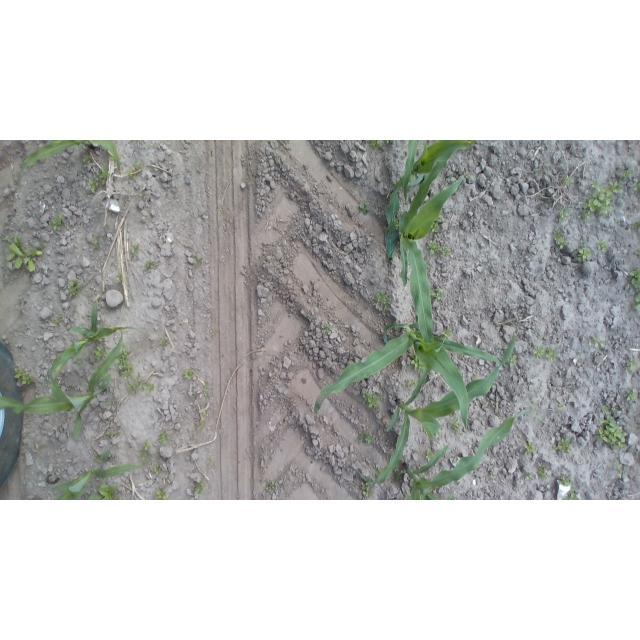Maize: (359, 332, 515, 485), (314, 324, 502, 431), (1, 331, 124, 443), (399, 159, 470, 353), (395, 410, 545, 500), (385, 141, 479, 259), (40, 299, 141, 389), (18, 141, 123, 190), (49, 448, 141, 500), (405, 141, 420, 204)
Weeds: (580, 168, 632, 220), (5, 232, 40, 272), (591, 414, 627, 450), (119, 346, 142, 382), (87, 483, 119, 500), (550, 436, 574, 457), (126, 378, 155, 394), (14, 365, 35, 387), (370, 290, 390, 313), (588, 333, 608, 351), (553, 229, 569, 250), (67, 280, 83, 301), (354, 430, 374, 446), (362, 390, 379, 408), (627, 268, 640, 291), (426, 240, 443, 257), (523, 440, 538, 457), (51, 213, 65, 231), (98, 167, 111, 186), (538, 462, 551, 481), (193, 480, 205, 500), (578, 248, 593, 264), (356, 201, 372, 216), (410, 356, 424, 373), (93, 345, 108, 360), (158, 430, 174, 444), (87, 177, 101, 193), (431, 287, 446, 301), (141, 260, 155, 275), (544, 346, 558, 361), (362, 482, 375, 498), (563, 488, 580, 500), (449, 416, 463, 430), (625, 357, 638, 372), (533, 344, 544, 361), (625, 389, 639, 402), (596, 240, 609, 253), (559, 475, 573, 487), (439, 327, 453, 339), (577, 211, 592, 222), (632, 292, 640, 312), (589, 180, 602, 192), (558, 208, 570, 221), (141, 439, 152, 453), (106, 429, 122, 438), (155, 489, 168, 500), (370, 141, 383, 152), (508, 354, 518, 368), (131, 243, 142, 255), (191, 255, 203, 266), (35, 238, 46, 250), (132, 160, 145, 170), (425, 448, 435, 461), (405, 378, 418, 388), (266, 479, 276, 491), (157, 336, 170, 345), (126, 169, 137, 179), (323, 324, 334, 334), (183, 369, 193, 380), (154, 463, 163, 475), (442, 246, 451, 258), (187, 392, 198, 401), (83, 154, 92, 165), (93, 235, 102, 246), (431, 223, 440, 234), (109, 396, 118, 406), (140, 453, 148, 464), (525, 471, 534, 480), (53, 316, 62, 325), (76, 357, 85, 366), (372, 469, 380, 479), (115, 273, 123, 283), (557, 401, 565, 411), (198, 420, 206, 429), (201, 406, 207, 418), (565, 177, 574, 185), (602, 405, 611, 413), (633, 181, 640, 191), (489, 471, 497, 479), (70, 307, 79, 314), (123, 195, 128, 207), (616, 464, 623, 472), (581, 237, 588, 245), (204, 390, 211, 398), (633, 222, 640, 230), (94, 453, 101, 461), (144, 143, 153, 149), (209, 329, 215, 338), (530, 401, 537, 408), (534, 169, 542, 175), (634, 248, 640, 256), (203, 381, 209, 388), (491, 400, 498, 406), (481, 399, 488, 405), (471, 376, 479, 381), (220, 207, 225, 215), (387, 140, 396, 144), (577, 351, 583, 357), (139, 192, 146, 197), (207, 460, 213, 465), (105, 224, 110, 229), (110, 156, 115, 160), (165, 477, 169, 482), (542, 192, 546, 196), (133, 142, 137, 145)
